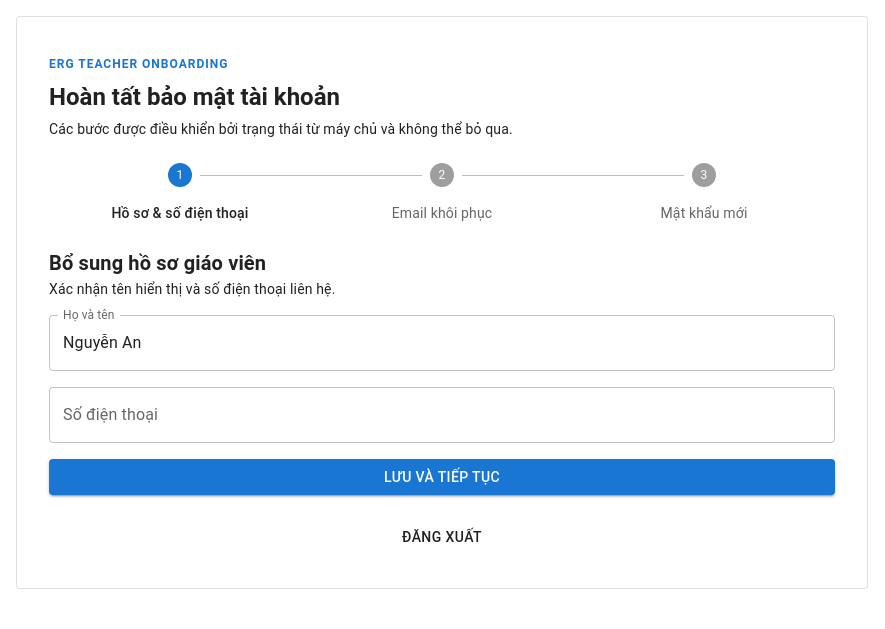
Test: teacher onboarding workspace › advances only when the backend returns updated lifecycle nextSteps
Click the button "Lưu và tiếp tục": (442, 477) [49,459,835,496]
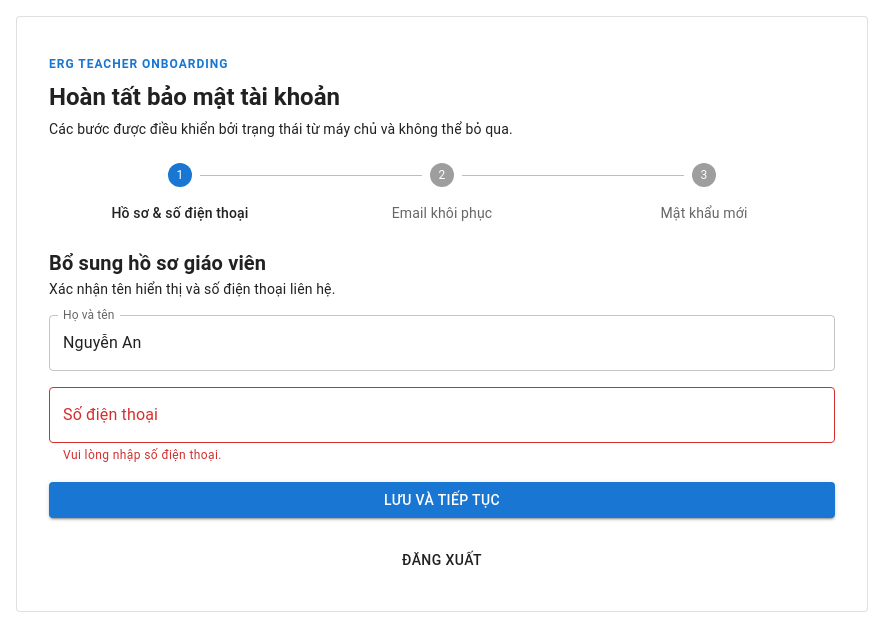
Now the text "Vui lòng nhập số điện thoại." is shown, box [63,448,222,462]
In the field labelled "Số điện thoại": (442, 415) [49,387,835,443], type "0909000111"
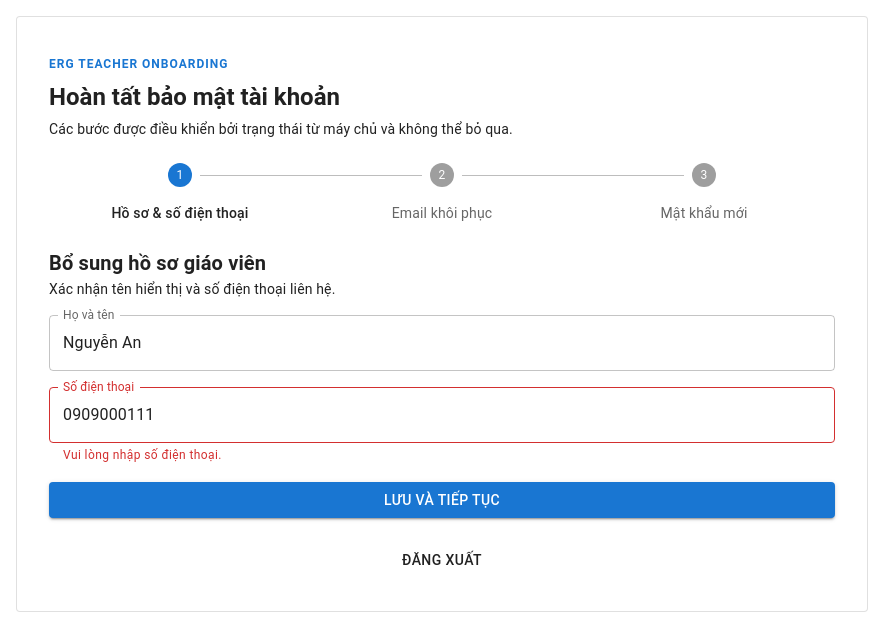
Click the button "Lưu và tiếp tục": (442, 500) [49,482,835,518]
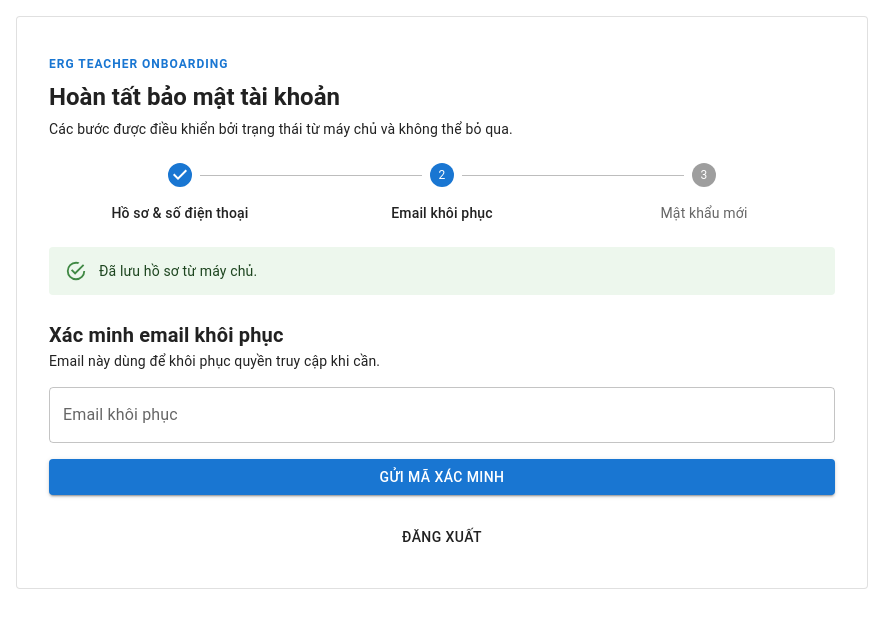
Now the heading "Xác minh email khôi phục" is shown, box [49,323,284,347]
